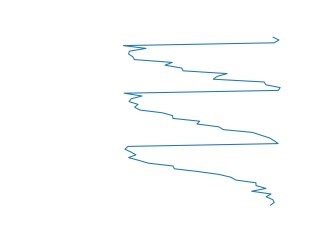distributaryMouthBar: (121, 31, 284, 206)
